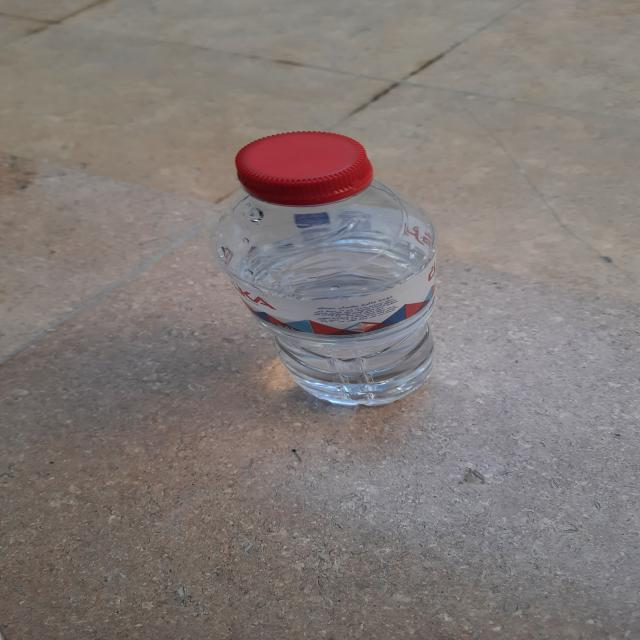plastic: (163, 120, 477, 432)
